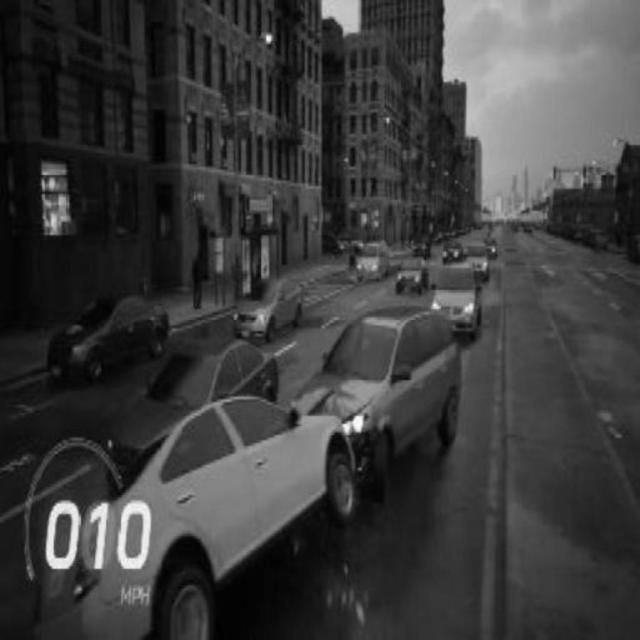accident: (51, 310, 461, 630)
vehicle: (113, 335, 281, 448), (41, 289, 172, 373), (226, 276, 306, 337), (431, 264, 485, 337), (347, 237, 395, 284), (387, 249, 427, 299), (438, 233, 466, 261)
